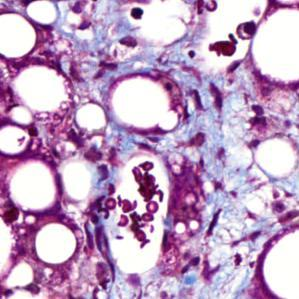steatosis: (111, 71, 182, 134), (13, 63, 70, 116), (8, 160, 56, 215), (30, 222, 79, 266), (252, 133, 297, 178), (72, 100, 110, 133)
